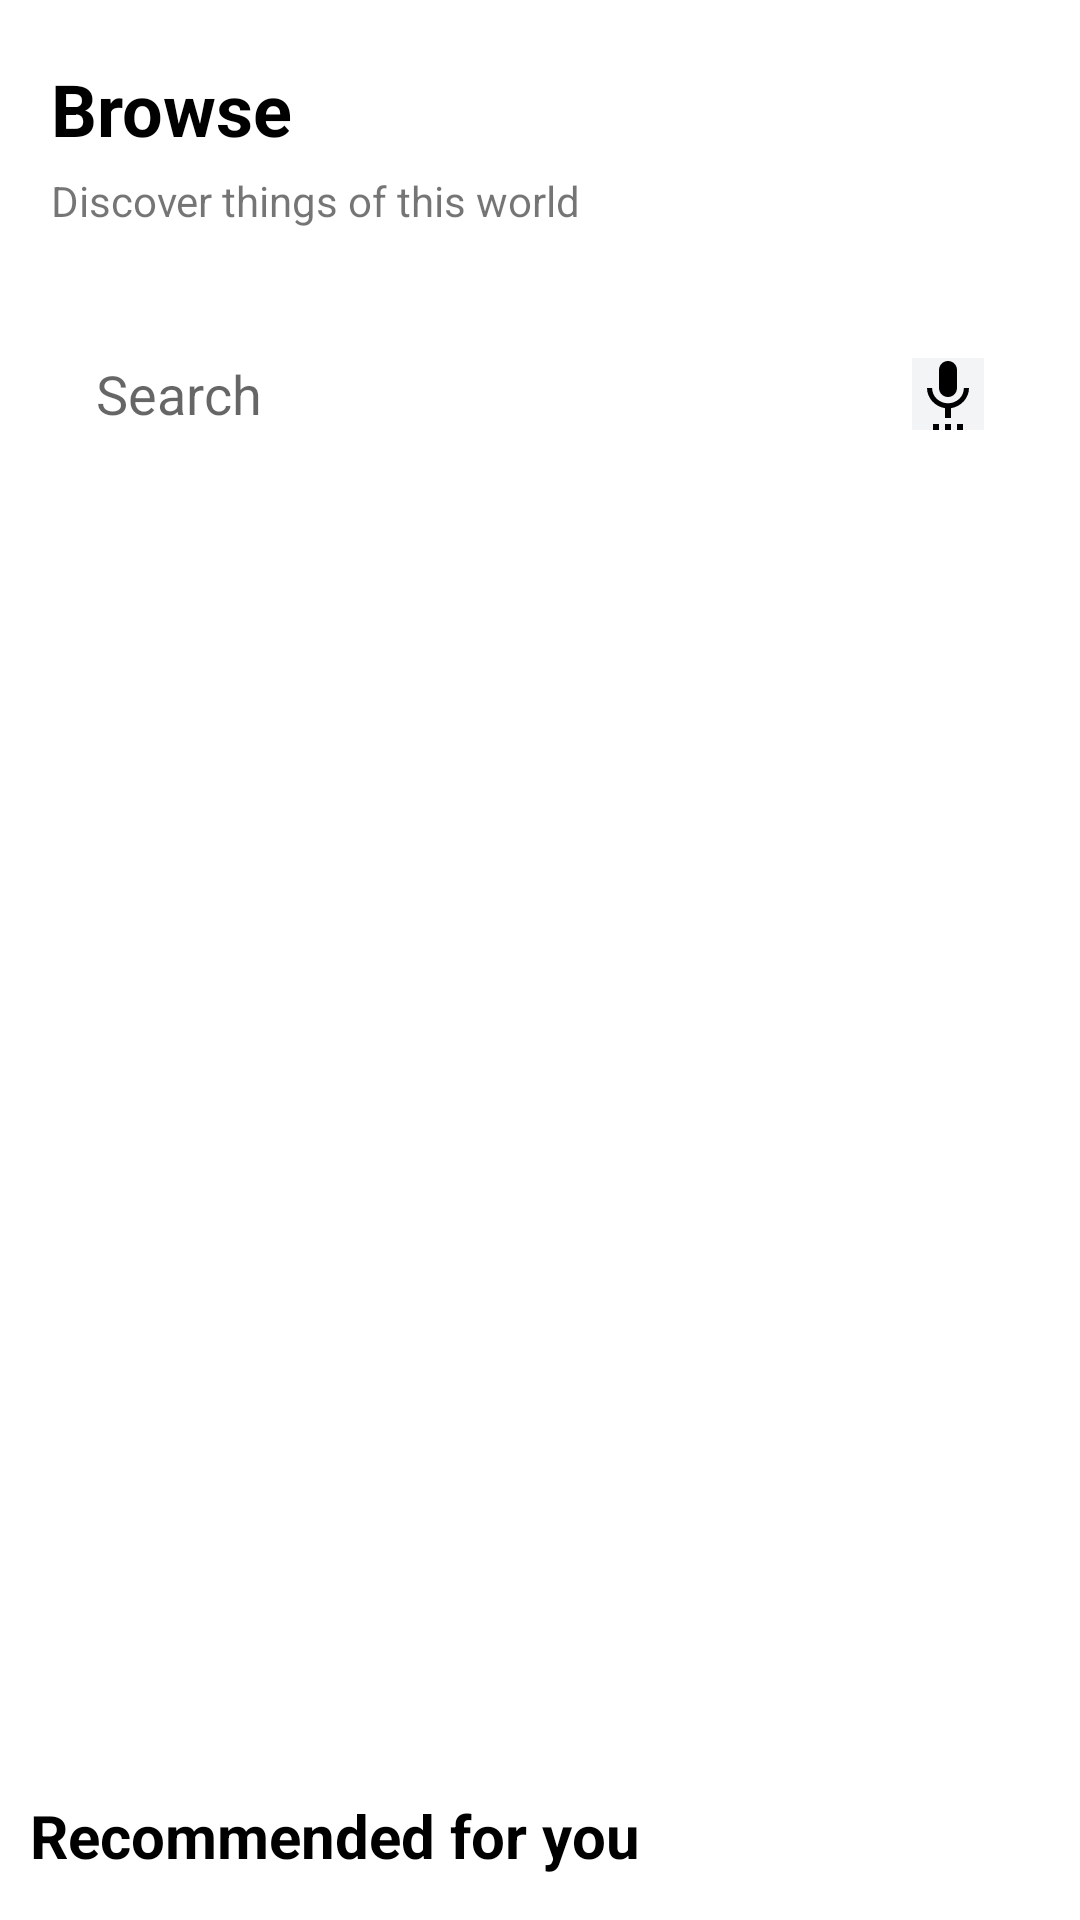

Icon click points for this 1080 × 1920 phone screenshot, format point (x, y):
settings voice: point (948, 394)
